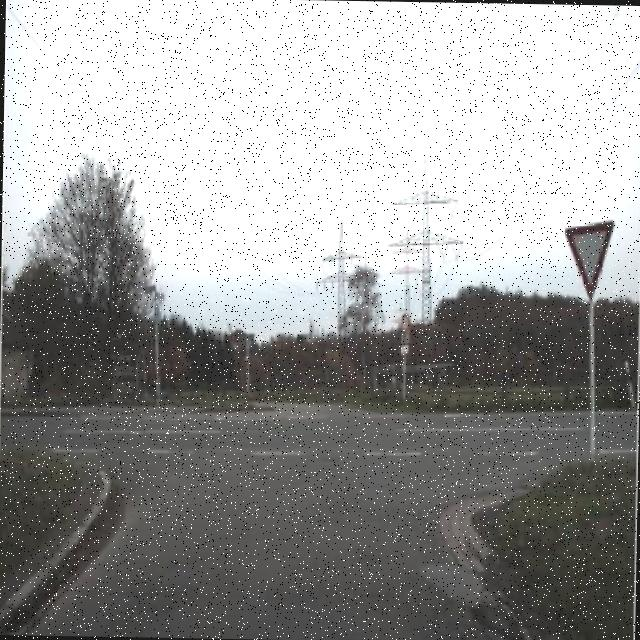Ustap pierwszenstwa: (561, 220, 616, 301)
